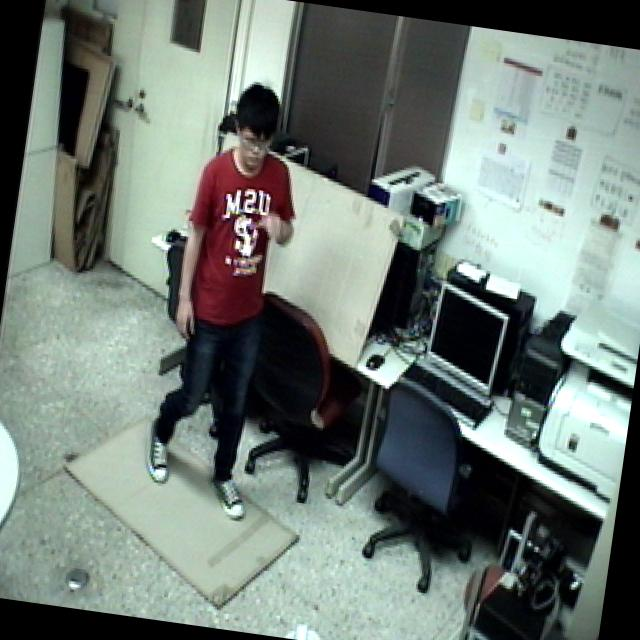stand: (127, 70, 321, 532)
